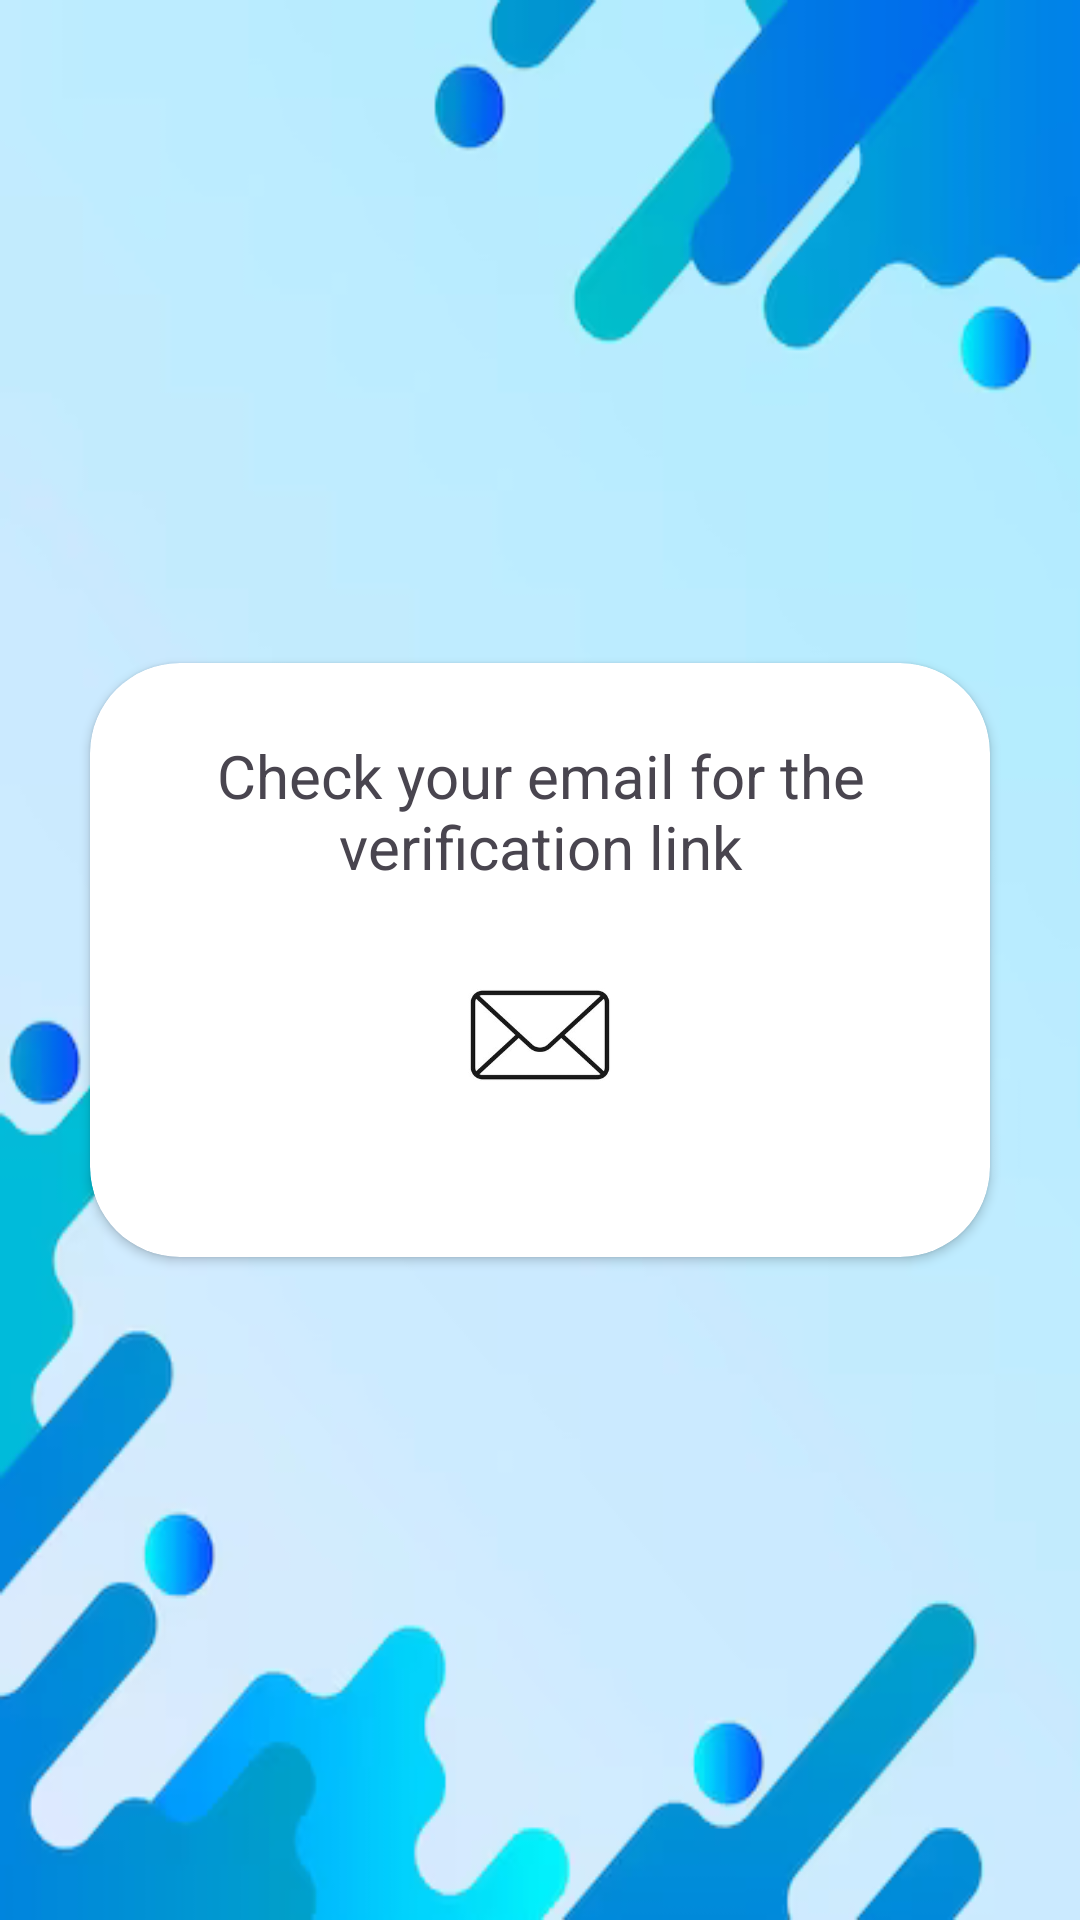

Where icons sit on this 1080 x 1920 app screen, as (x1,y1,x2,y2):
emailicon: (470,990,610,1080)
